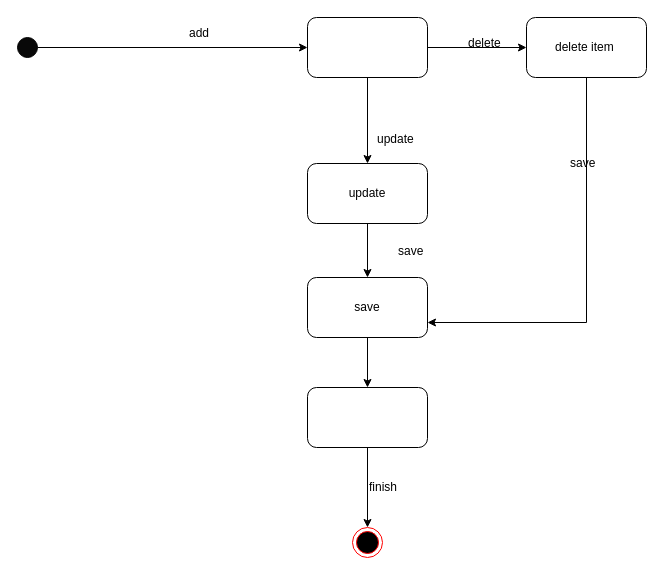
The diagram is 664 pixels wide and 575 high, and some of its shapes have lost their labels. Each missing label, with the centre of its shape:
"enter attribute" belongs at pixel 367 47.
"show in store" belongs at pixel 367 417.
